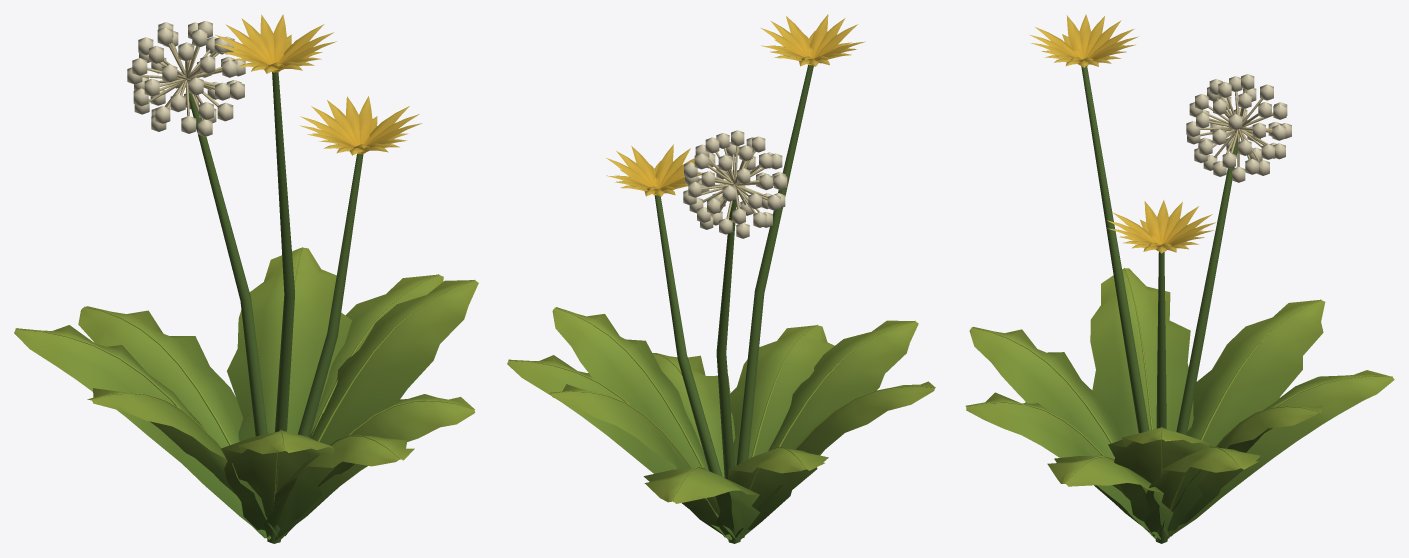
Rendered from dandelion.glb.
3 views of the same model, side by side, from view 1: azimuth 30°, elevation 25°; view 2: azimuth 150°, elevation 25°; view 3: azimuth 270°, elevation 25° (orthographic). The views are drawn at different scales.
Parts seen in each view (by area): view 1: Plant; view 2: Plant; view 3: Plant.
Boxes of the visible parts, x1,y1,x2,y2 form: Plant: (14, 14, 478, 543); Plant: (507, 14, 935, 543); Plant: (965, 14, 1394, 543).
Size of the model in its own units: 0.3847 by 0.4798 by 0.385.
